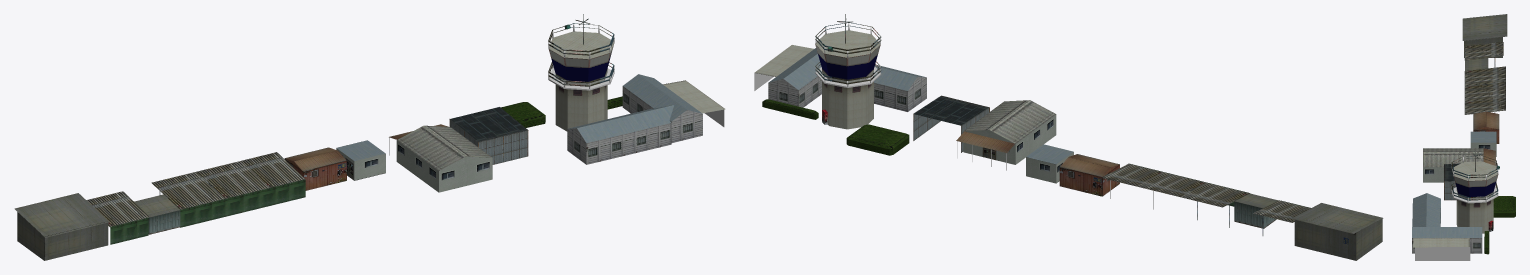
File: ct-llhz.gltf
3 views of the same model, side by side, from view 1: azimuth 30°, elevation 25°; view 2: azimuth 150°, elevation 25°; view 3: azimuth 270°, elevation 25° (orthographic). The views are drawn at different scales.
Parts seen in each view (by area): view 1: node8, node1, node2, node9, node6, node7; view 2: node8, node1, node9, node2, node6, node7; view 3: node8, node1, node7, node9, node6, node2, node5.
Boxes of the visible parts, <box> form: node8: <box>14,24,725,260</box>; node1: <box>86,152,305,227</box>; node2: <box>449,107,528,164</box>; node9: <box>501,96,622,127</box>; node6: <box>548,14,614,86</box>; node7: <box>548,63,724,126</box>; node8: <box>755,30,1383,260</box>; node1: <box>1101,163,1310,235</box>; node9: <box>762,99,909,155</box>; node2: <box>913,95,989,152</box>; node6: <box>815,14,881,84</box>; node7: <box>754,46,881,90</box>; node8: <box>1412,14,1507,253</box>; node1: <box>1464,42,1505,114</box>; node7: <box>1415,184,1498,260</box>; node9: <box>1484,196,1515,254</box>; node6: <box>1451,150,1498,200</box>; node2: <box>1444,163,1460,200</box>; node5: <box>1451,112,1498,180</box>.
Bounding box in the file's own units: 103 × 16.86 × 19.91.
